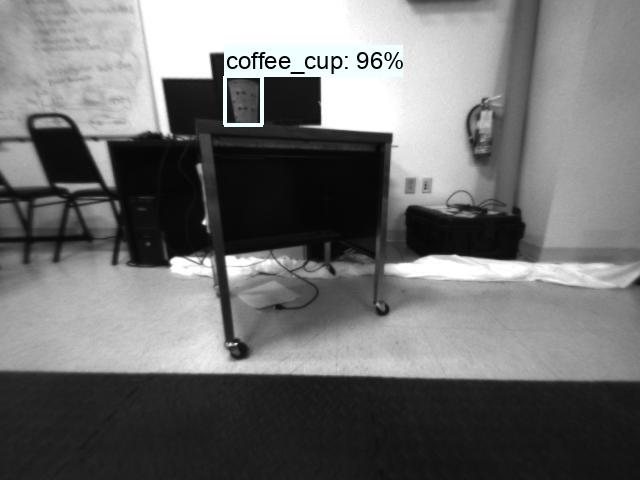coffee_cup: (225, 77, 263, 123)
